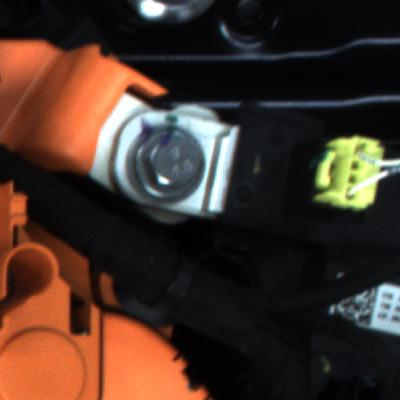nut_b: (119, 117, 215, 205)
